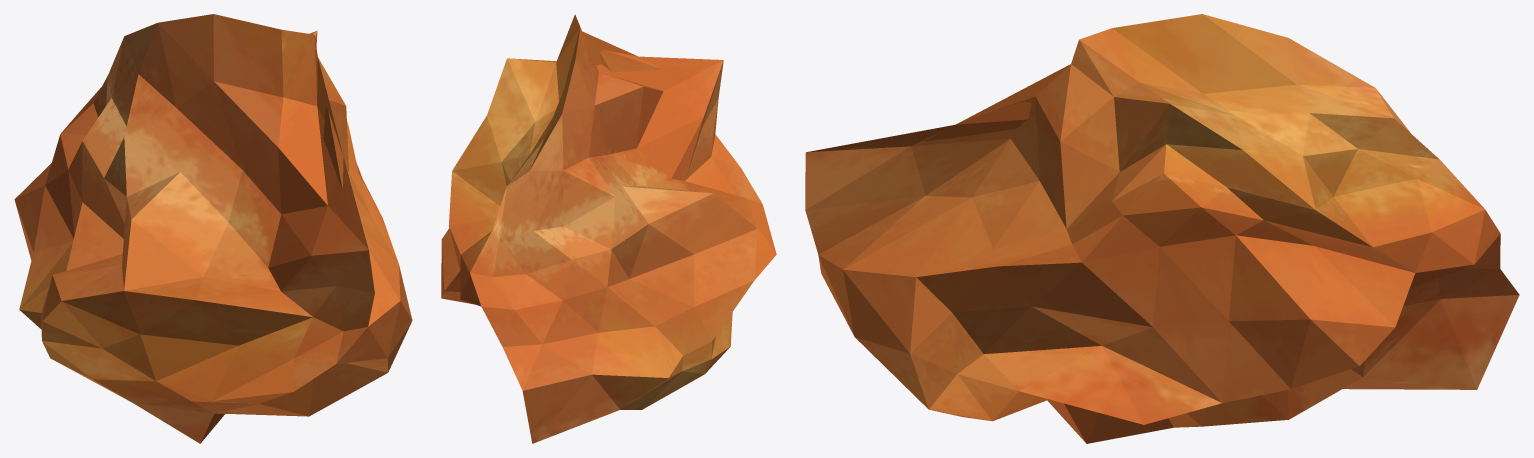
Rendered from rock_001.fbx.
3 renders of one model, left to right at view 1: azimuth 30°, elevation 25°; view 2: azimuth 150°, elevation 25°; view 3: azimuth 270°, elevation 25°, orthographic. The views are drawn at different scales.
Parts seen in each view (by area): view 1: Rock.001; view 2: Rock.001; view 3: Rock.001.
Part boxes in pixels (x1,y1,x2,y2): Rock.001: (14, 14, 412, 443); Rock.001: (441, 14, 776, 443); Rock.001: (805, 14, 1519, 443).
Size of the model in its own units: 202 by 260 by 357.
